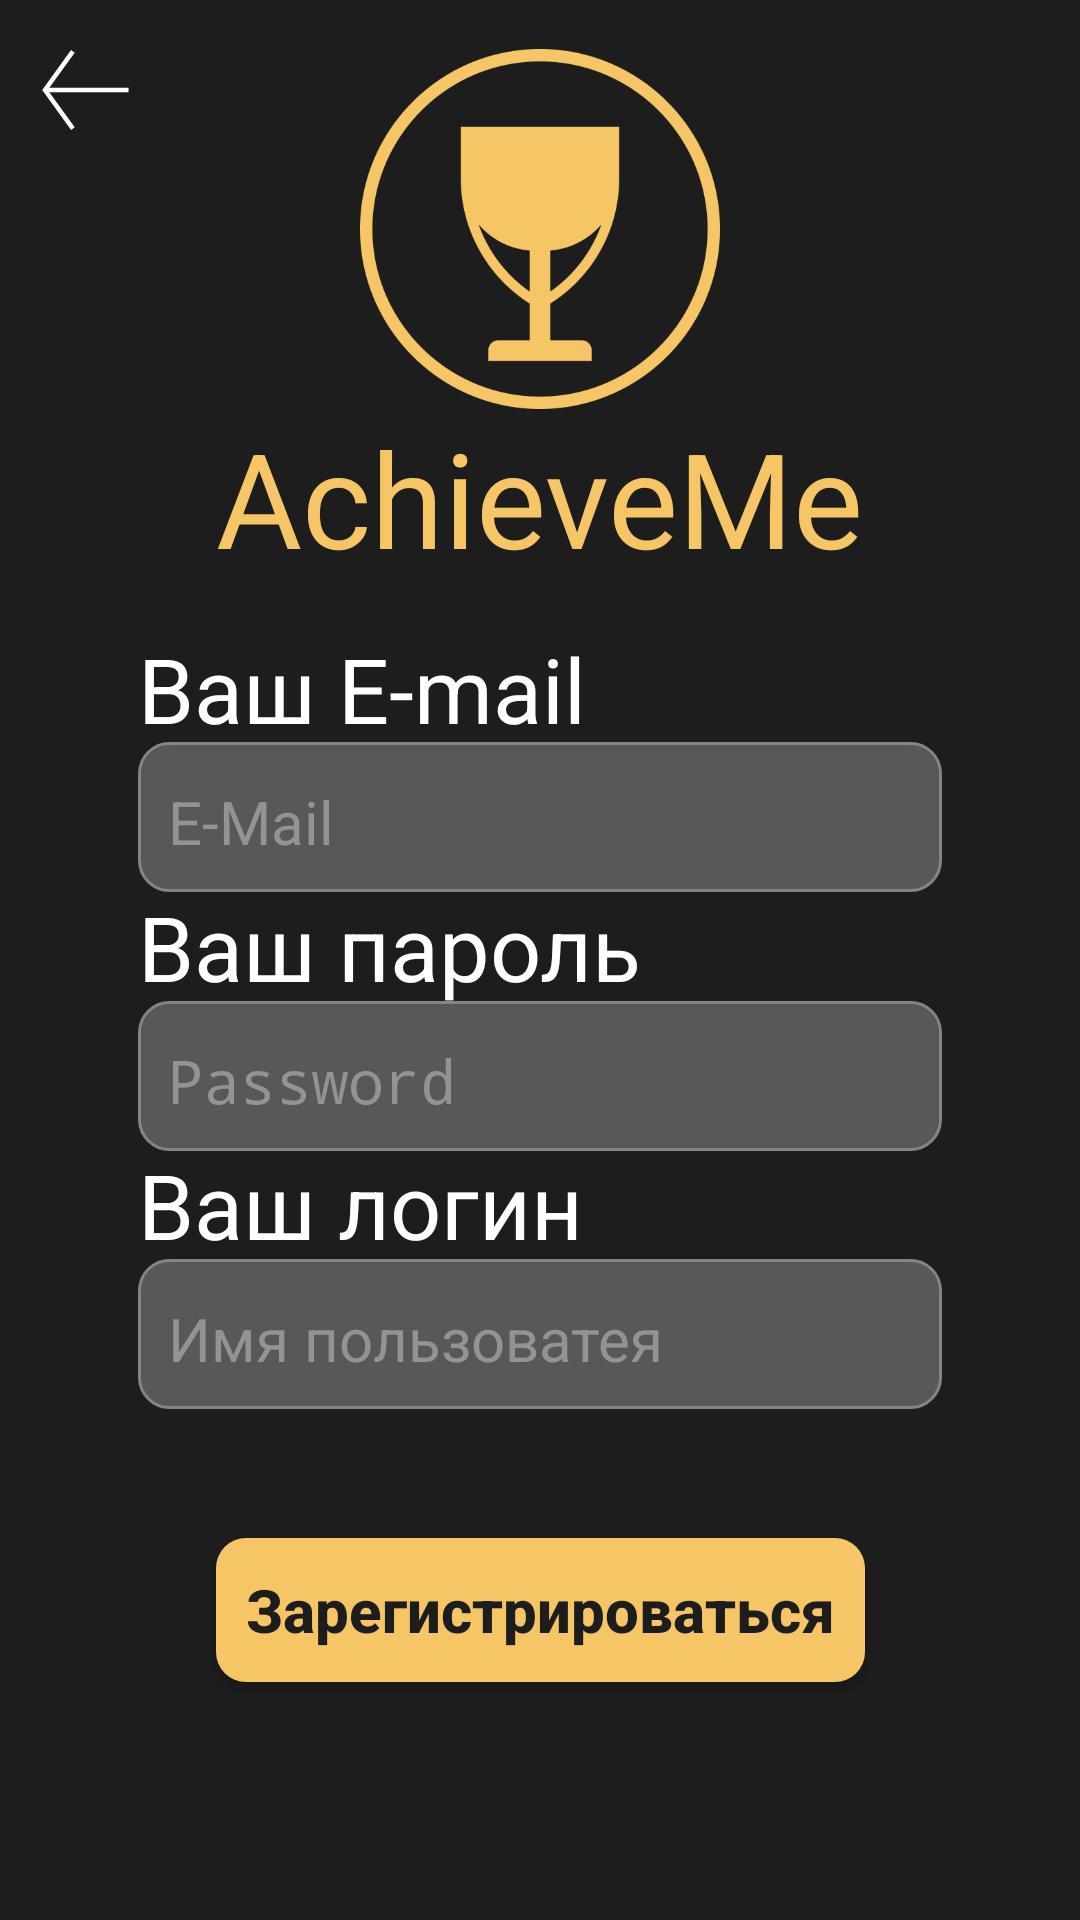

Point at icon controls on the screen. Image size 1080 x 1920, points as [x,y].
backarroybutton: [85,90]
